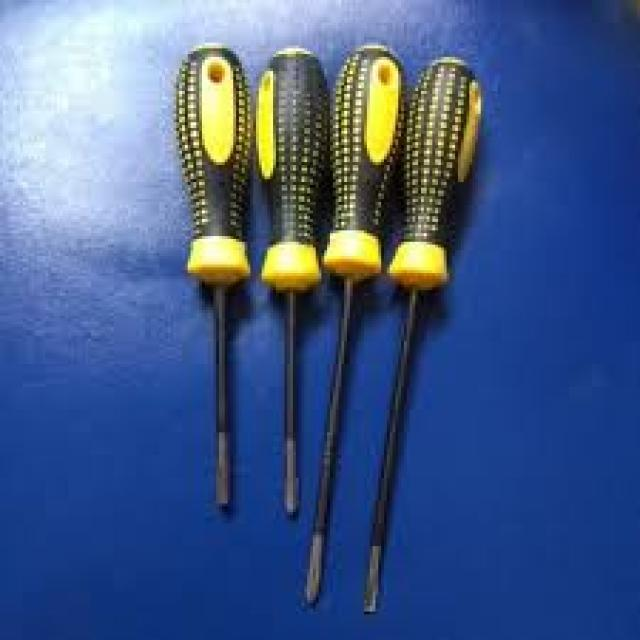screwdriver: (360, 56, 485, 618), (298, 42, 406, 618), (168, 44, 254, 514), (254, 46, 328, 524)
